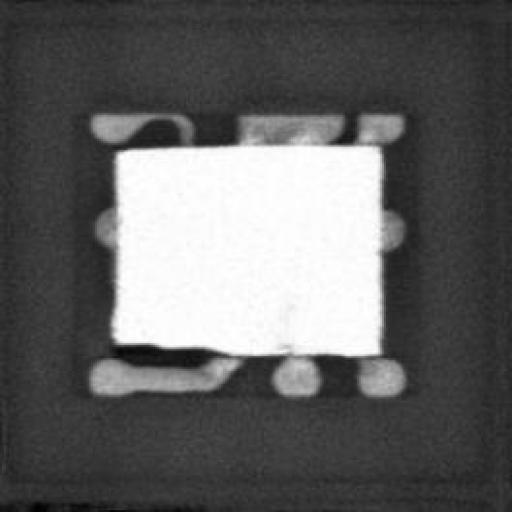DIE_BROKEN: (105, 336, 229, 358)
